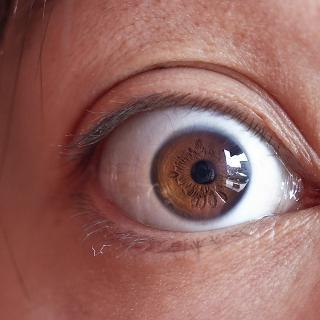pupil: (190, 158, 218, 186)
